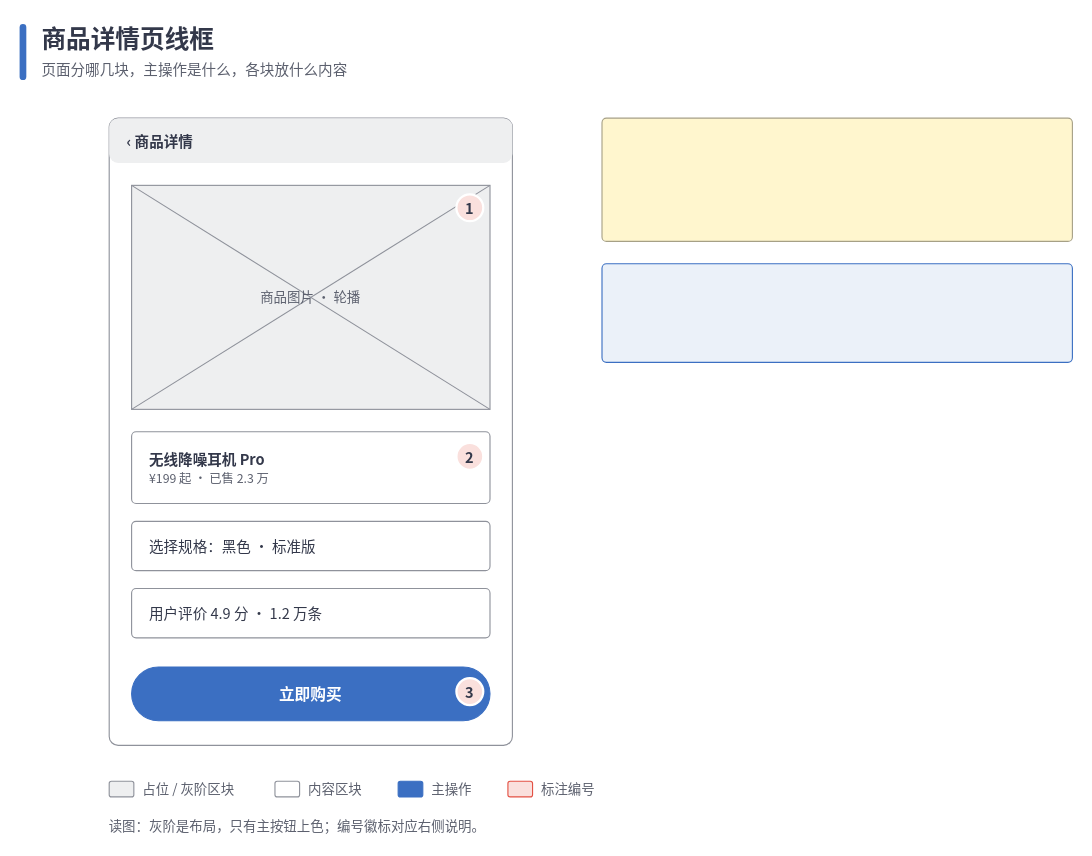
This 1092x856 diagram has some shape labels left out. The shapes that lost their labels are listed below. From the top down, each one's centre as x and y in pixels, then its label:
point (836, 179): 标注说明 1 轮播图：最多 5 张，首图为主图 2 标题与价格：价格取 SKU 最低价 3 主按钮：常驻底部，未登录点击先登录
point (836, 312): 不在这张图里 规格选择弹层 评价列表页
